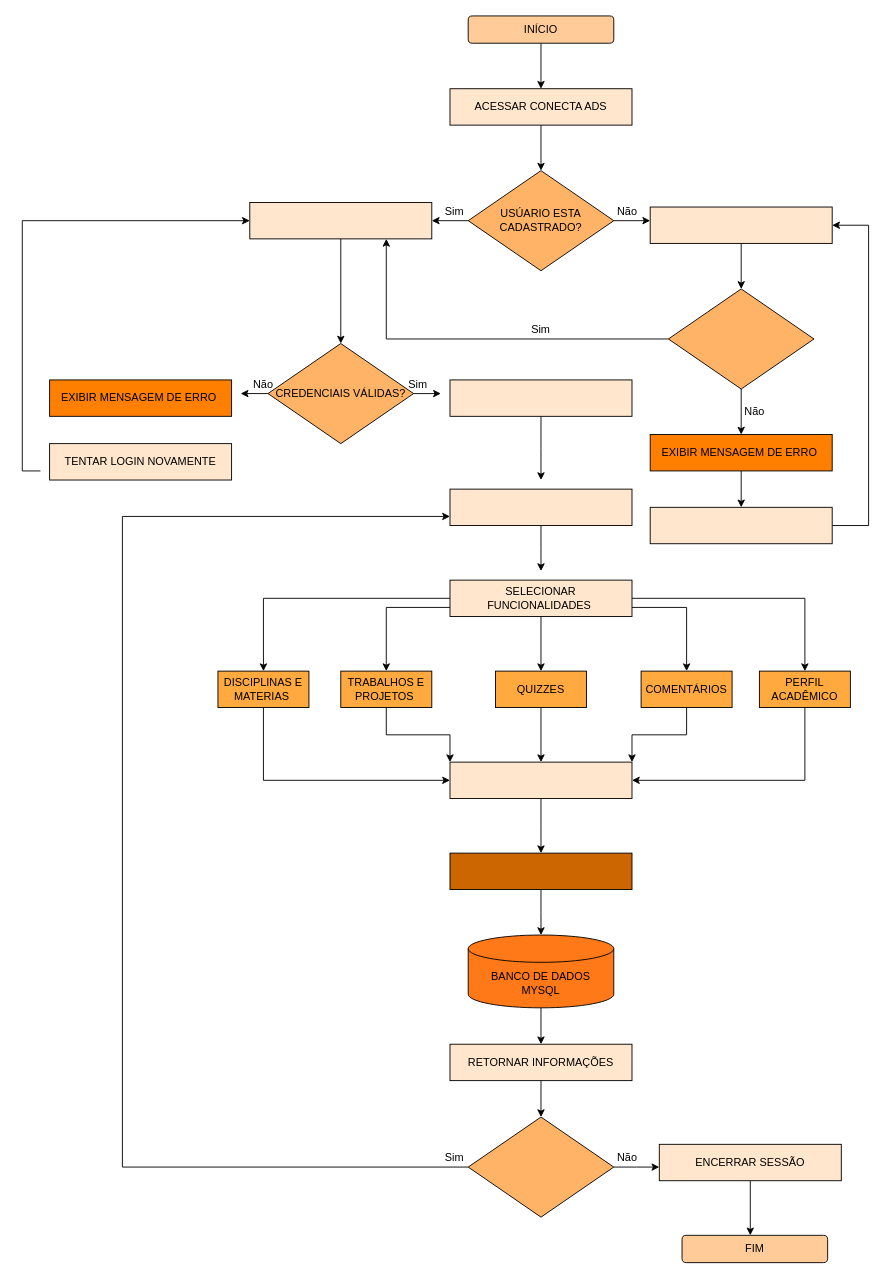
This 892x1279 diagram has some shape labels left out. Each missing label, with the centre of its shape:
CONTINUAR USANDO O SISTEMA?: the point at 540,1166
CORRIGIR DADOS: the point at 740,525
DADOS VALIDOS?: the point at 740,338
NODE.JS+EXPRESS: the point at 540,871
PAINEL CONECTA ADS: the point at 540,507
PROCESSAR FUNCIONALIDADES: the point at 540,780
REALIZAR CADASTRO: the point at 740,224
REALIZAR LOGIN: the point at 340,220
VALIDAR ACESSO: the point at 540,397
